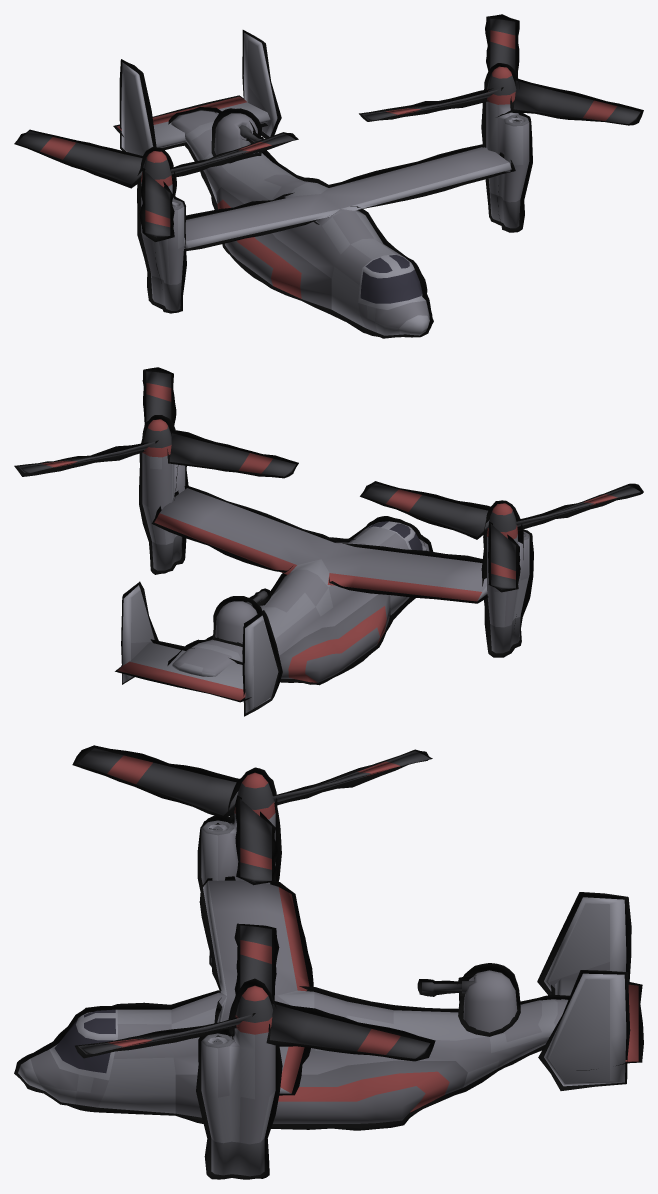
File: BomberPlaneBoss.fbx
3 views of the same model, one above another, from view 1: azimuth 30°, elevation 25°; view 2: azimuth 150°, elevation 25°; view 3: azimuth 270°, elevation 25° (orthographic). The views are drawn at different scales.
Parts seen in each view (by area): view 1: helicopteroBOSS, helice.R, helice.L, armaBOSS; view 2: helicopteroBOSS, helice.R, helice.L, armaBOSS; view 3: helicopteroBOSS, helice.R, helice.L, armaBOSS.
Part boxes in pixels (x1=…): helicopteroBOSS: x1=113, y1=30, x2=532, y2=338; helice.R: x1=14, y1=129, x2=298, y2=241; helice.L: x1=359, y1=14, x2=643, y2=125; armaBOSS: x1=214, y1=113, x2=265, y2=155; helicopteroBOSS: x1=115, y1=415, x2=533, y2=716; helice.R: x1=360, y1=481, x2=643, y2=592; helice.L: x1=14, y1=367, x2=298, y2=478; armaBOSS: x1=215, y1=588, x2=271, y2=643; helicopteroBOSS: x1=14, y1=767, x2=643, y2=1179; helice.R: x1=72, y1=745, x2=432, y2=885; helice.L: x1=75, y1=923, x2=435, y2=1061; armaBOSS: x1=417, y1=970, x2=517, y2=1032.
Bounding box in the file's own units: 354 × 121 × 302.
